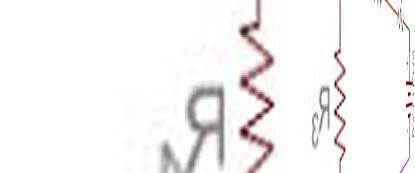resistor: (232, 9, 283, 166), (332, 46, 354, 156)
